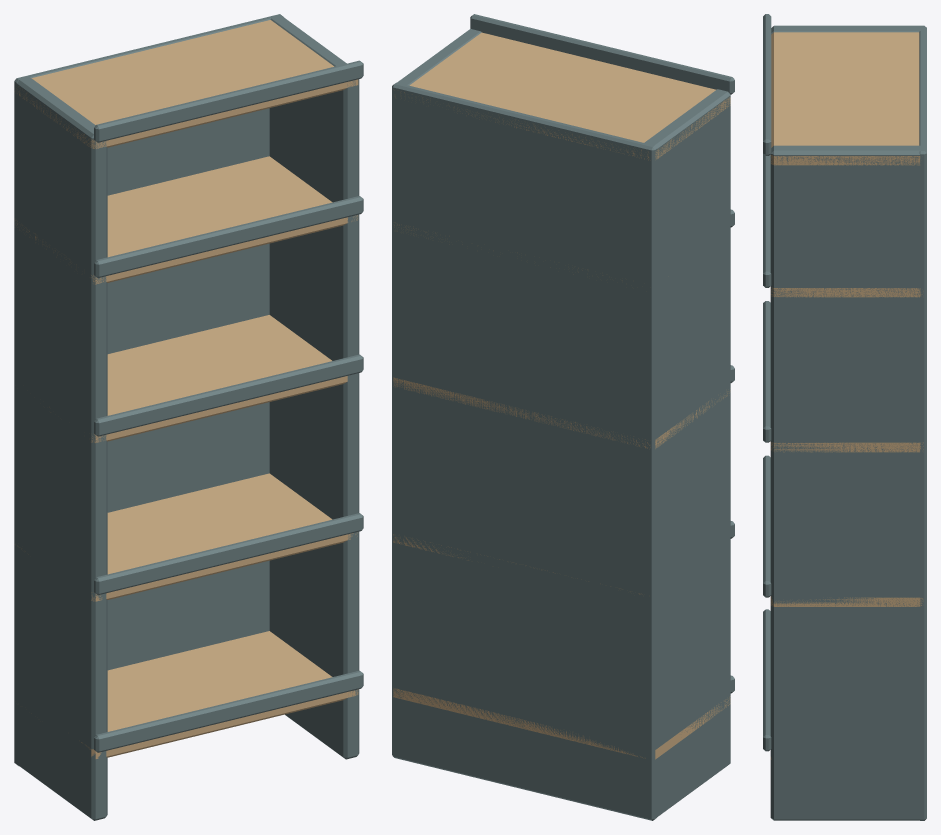
File: Storage-PaperCabinet.fbx
3 views of the same model, side by side, from view 1: azimuth 30°, elevation 25°; view 2: azimuth 150°, elevation 25°; view 3: azimuth 270°, elevation 25° (orthographic). The views are drawn at different scales.
Visible parts, largest first — view 1: Side Panel, Cabinet Back, Side Panel.001, Shelf.004, Shelf.003, Shelf, Shelf.001, Shelf.002, Shelf Lip.002, Shelf Lip.001, Shelf Lip.004, Shelf Lip (+1 smaller); view 2: Cabinet Back, Side Panel, Shelf.004, Side Panel.001, Shelf Lip.004, Shelf, Shelf.002; view 3: Side Panel.001, Shelf.004, Cabinet Back, Shelf.002, Shelf.003, Shelf Lip.004, Shelf.001, Side Panel, Shelf Lip, Shelf Lip.001, Shelf Lip.002, Shelf Lip.003.
Part boxes in pixels (x1,y1,x2,y2): Side Panel: (14,76,107,820); Cabinet Back: (14,14,283,765); Side Panel.001: (269,15,359,759); Shelf.004: (14,20,358,148); Shelf.003: (15,156,358,284); Shelf: (31,631,358,758); Shelf.001: (15,473,357,601); Shelf.002: (49,315,347,442); Shelf Lip.002: (94,354,363,436); Shelf Lip.001: (94,513,363,595); Shelf Lip.004: (94,60,363,142); Shelf Lip: (94,670,363,752); Cabinet Back: (392,82,657,820); Side Panel: (640,89,730,818); Shelf.004: (393,32,730,160); Side Panel.001: (393,29,481,758); Shelf Lip.004: (470,14,734,94); Shelf: (393,688,730,759); Shelf.002: (393,377,730,449); Side Panel.001: (770,145,923,820); Shelf.004: (770,32,920,165); Cabinet Back: (919,25,926,820); Shelf.002: (770,441,923,452); Shelf.003: (770,287,923,297); Shelf Lip.004: (763,14,771,155); Shelf.001: (770,596,923,606); Side Panel: (771,25,922,33); Shelf Lip: (763,609,771,751); Shelf Lip.001: (763,455,771,597); Shelf Lip.002: (763,301,771,442); Shelf Lip.003: (763,154,771,287).
Bounding box in the file's own units: 0.58 × 1.44 × 0.315.
